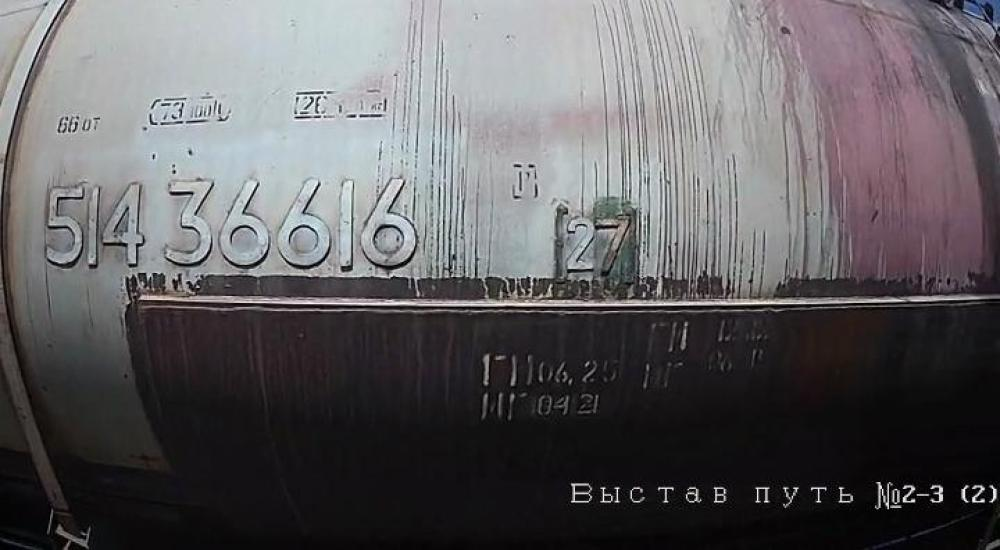Wagon-number: (38, 173, 423, 277)
